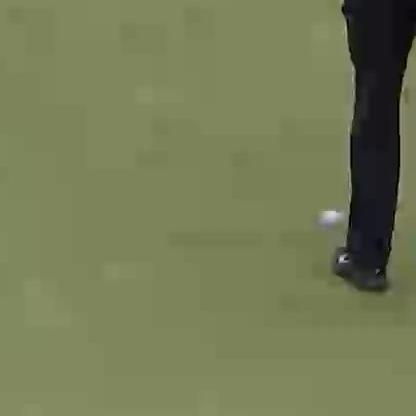golfball: (315, 207, 338, 227)
